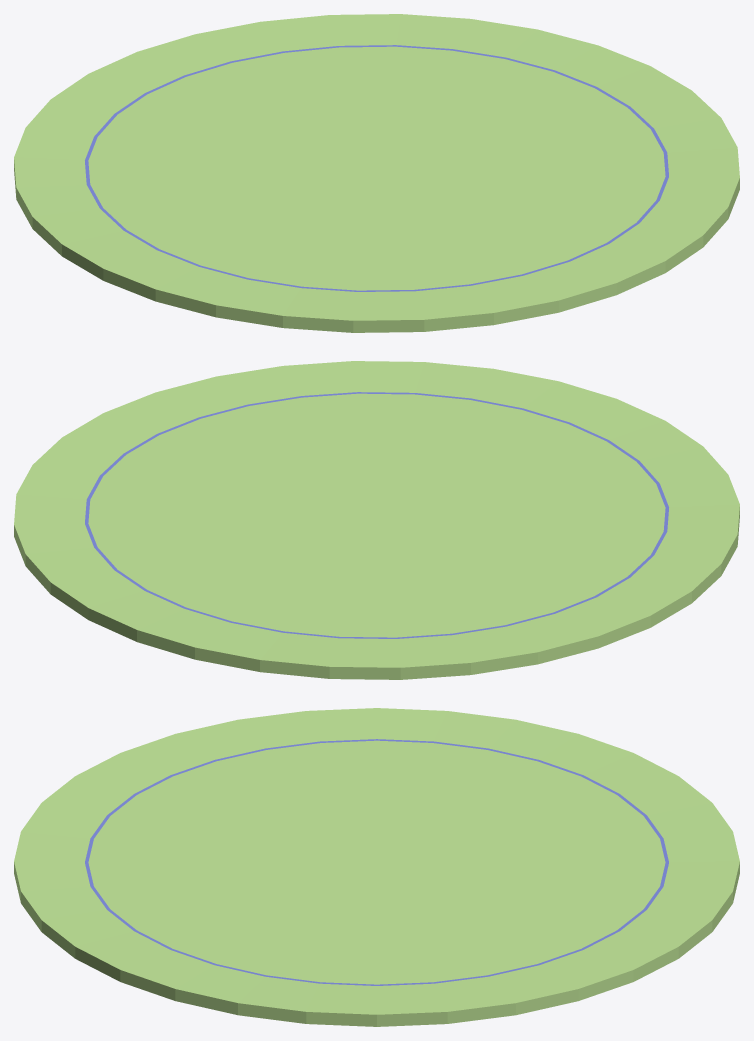
Rendered from EndGame_ArenaFloor.fbx.
3 renders of one model, top to bottom at view 1: azimuth 30°, elevation 25°; view 2: azimuth 150°, elevation 25°; view 3: azimuth 270°, elevation 25°, orthographic.
Parts seen in each view (by area): view 1: Inner_Base, Outer_Base; view 2: Inner_Base, Outer_Base; view 3: Inner_Base, Outer_Base.
Boxes of the visible parts, x1=… form: Inner_Base: x1=88, y1=46, x2=665, y2=290; Outer_Base: x1=14, y1=14, x2=739, y2=332; Inner_Base: x1=88, y1=393, x2=665, y2=637; Outer_Base: x1=14, y1=361, x2=739, y2=679; Inner_Base: x1=88, y1=740, x2=665, y2=984; Outer_Base: x1=14, y1=708, x2=739, y2=1026.
Size of the model in its own units: 792 by 14.63 by 792.
